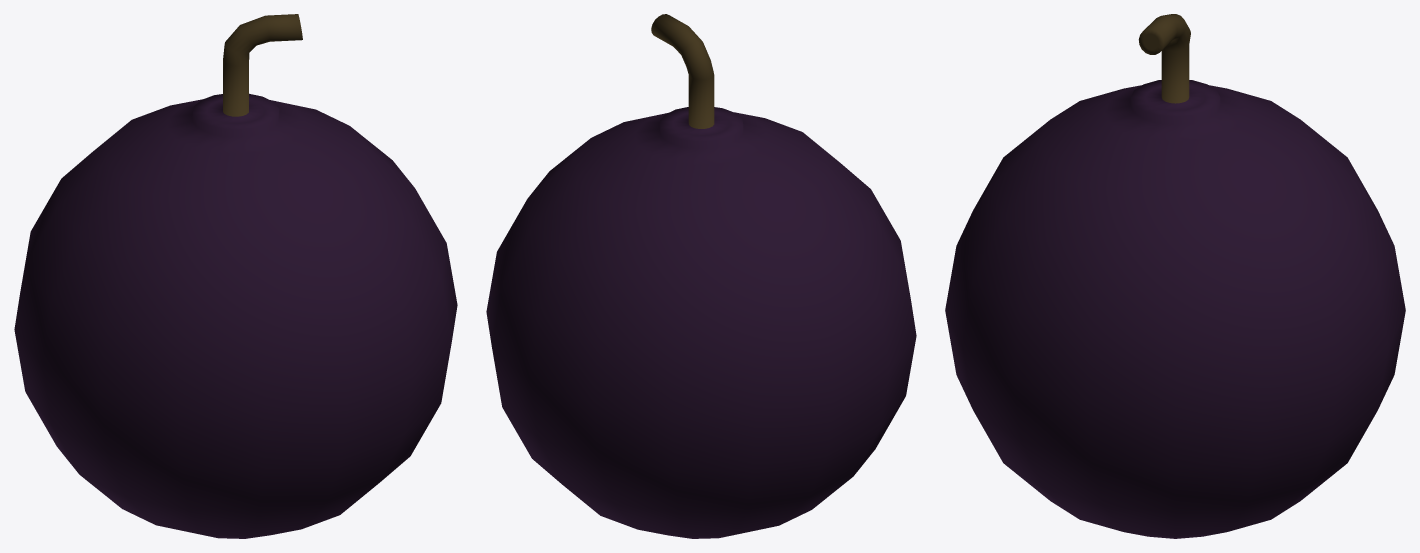
File: bomb.glb
The picture shows the model from 3 angles, left to right: view 1: azimuth 30°, elevation 25°; view 2: azimuth 150°, elevation 25°; view 3: azimuth 270°, elevation 25°; orthographic projection. The views are drawn at different scales.
Parts seen in each view (by area): view 1: Bomb; view 2: Bomb; view 3: Bomb.
Boxes of the visible parts, x1=… form: Bomb: x1=14, y1=14, x2=457, y2=538; Bomb: x1=486, y1=14, x2=916, y2=538; Bomb: x1=945, y1=14, x2=1405, y2=538.
Size of the model in its own units: 0.992 by 1.23 by 0.992.
